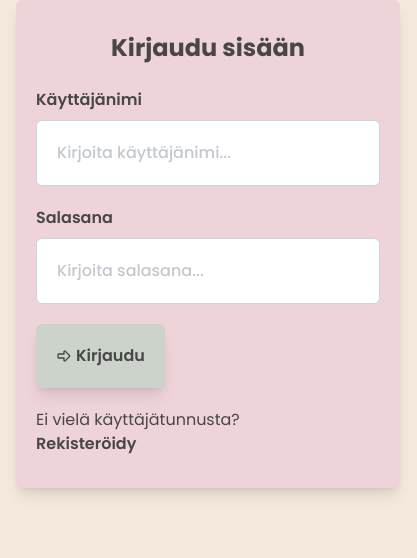
LoginForm Component › displays a generic error message on unknown error
The width and height of the screenshot is (417, 558).
Type "testuser" into the field labelled "Käyttäjänimi" at (208, 153), box [36,120,380,186]
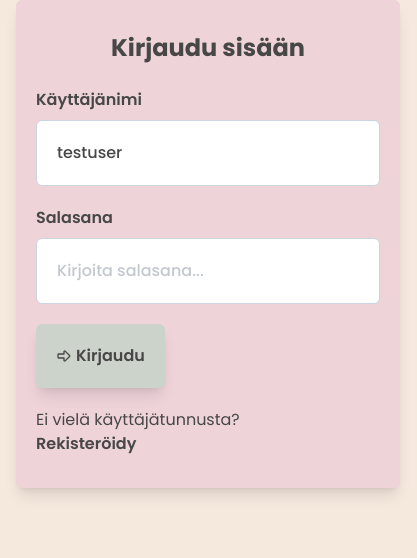
Type "password" into the password field labelled "Salasana" at (208, 271), box [36,238,380,304]
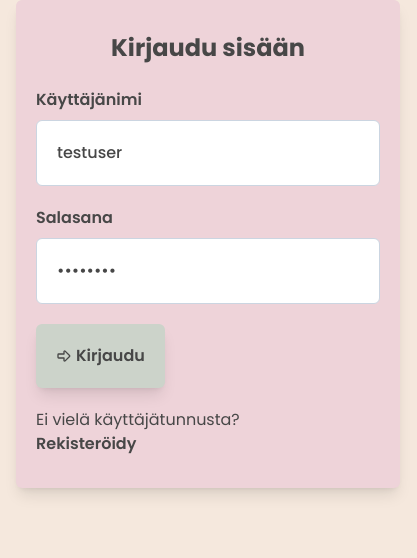
Click the button "Kirjaudu" at (100, 356), box [36,324,165,388]
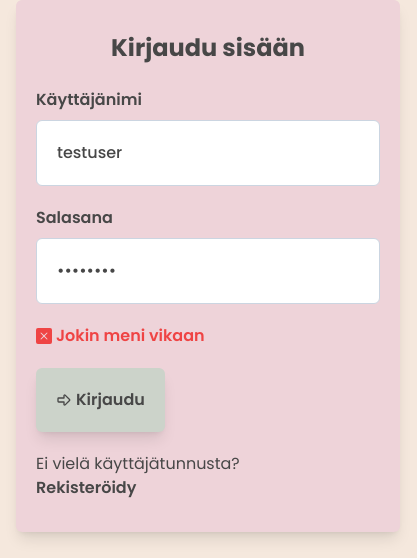
Now the text "Jokin meni vikaan" is shown, box [36,324,205,347]
